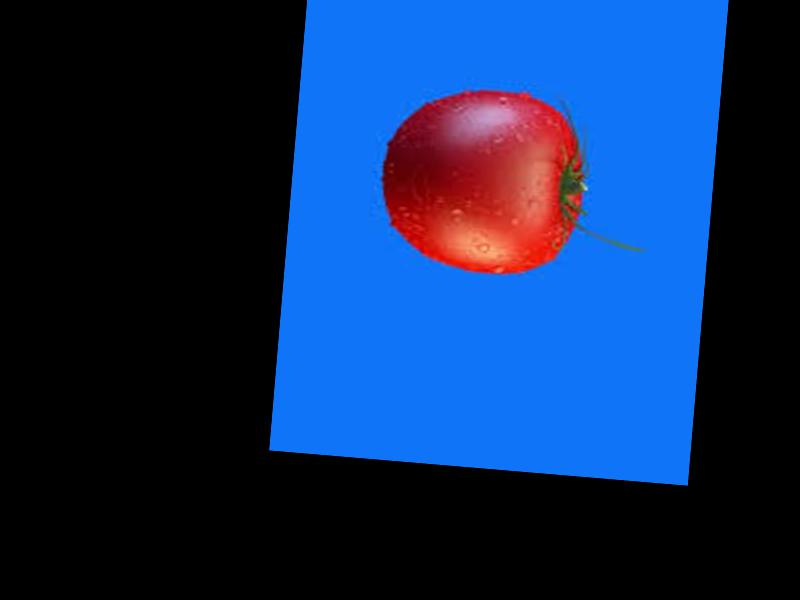Tomato: (374, 79, 592, 281)
